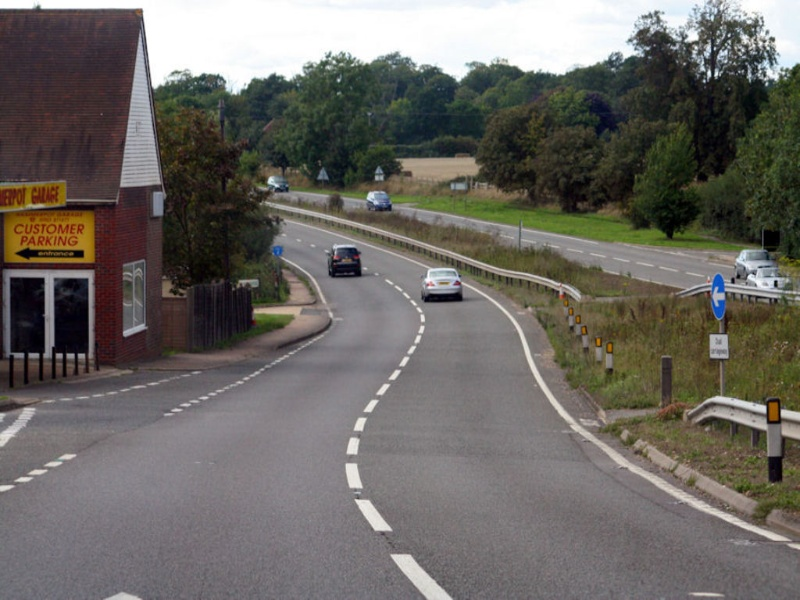parking: (6, 208, 93, 278)
